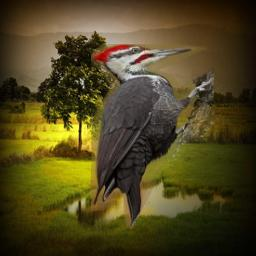Woodpecker: (91, 44, 214, 229)
